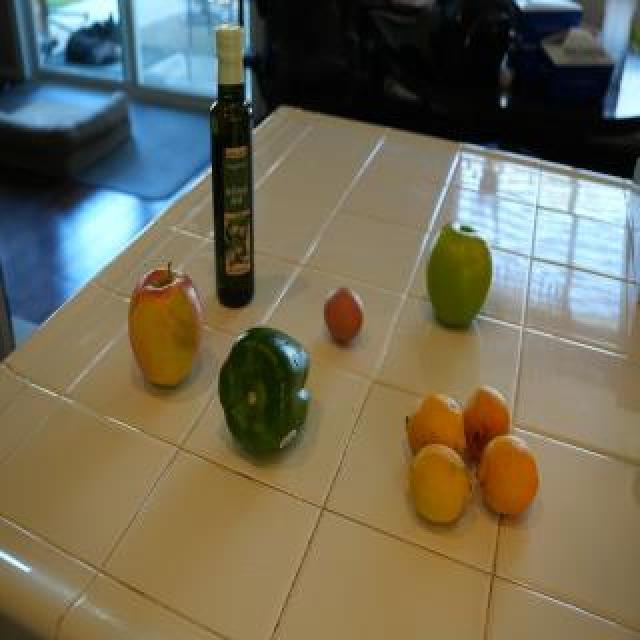bell_pepper: (207, 319, 323, 464)
egg: (321, 283, 369, 349)
